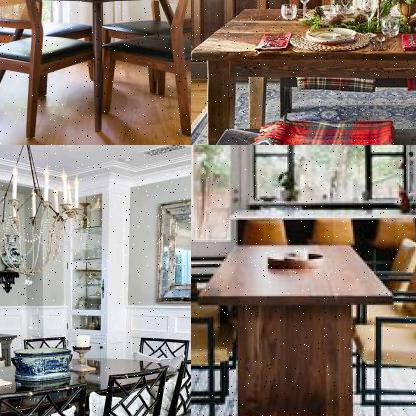table: (191, 238, 398, 415), (191, 0, 415, 144), (0, 0, 190, 122), (0, 351, 186, 415)
